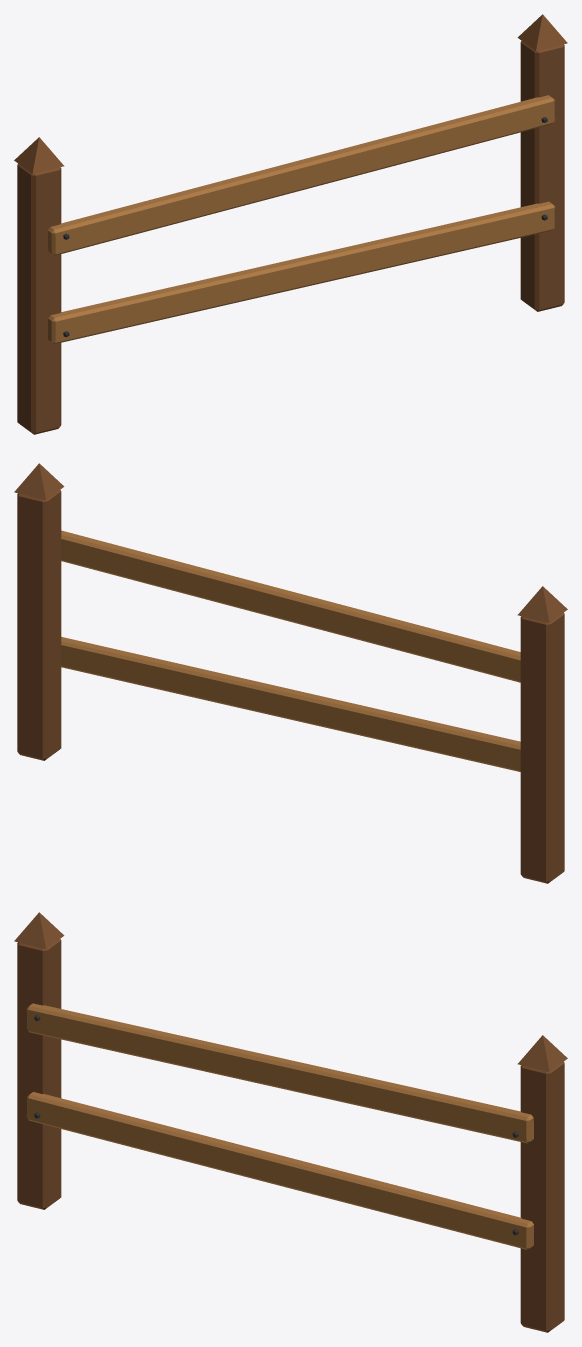
Rendered from vil_fence_v01.glb.
3 renders of one model, top to bottom at view 1: azimuth 30°, elevation 25°; view 2: azimuth 150°, elevation 25°; view 3: azimuth 330°, elevation 25°, orthographic.
Parts seen in each view (by area): view 1: fence; view 2: fence; view 3: fence.
Boxes of the visible parts, bbox=[...] form: fence: bbox=[14, 14, 567, 434]; fence: bbox=[14, 463, 567, 883]; fence: bbox=[14, 912, 567, 1332].
Bounding box in the file's own units: 2.13 × 1.1 × 0.1738.
